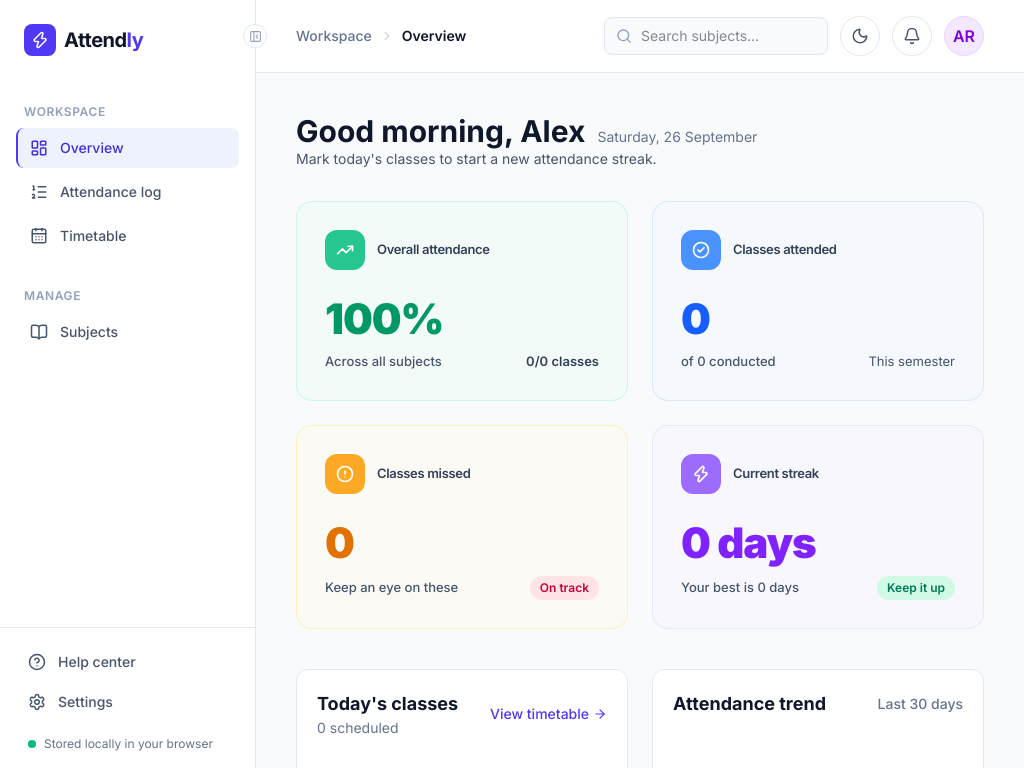
Test: app shell › navigates between all four views from the sidebar
Click the button "Subjects": [128, 332] box [16,312,239,352]
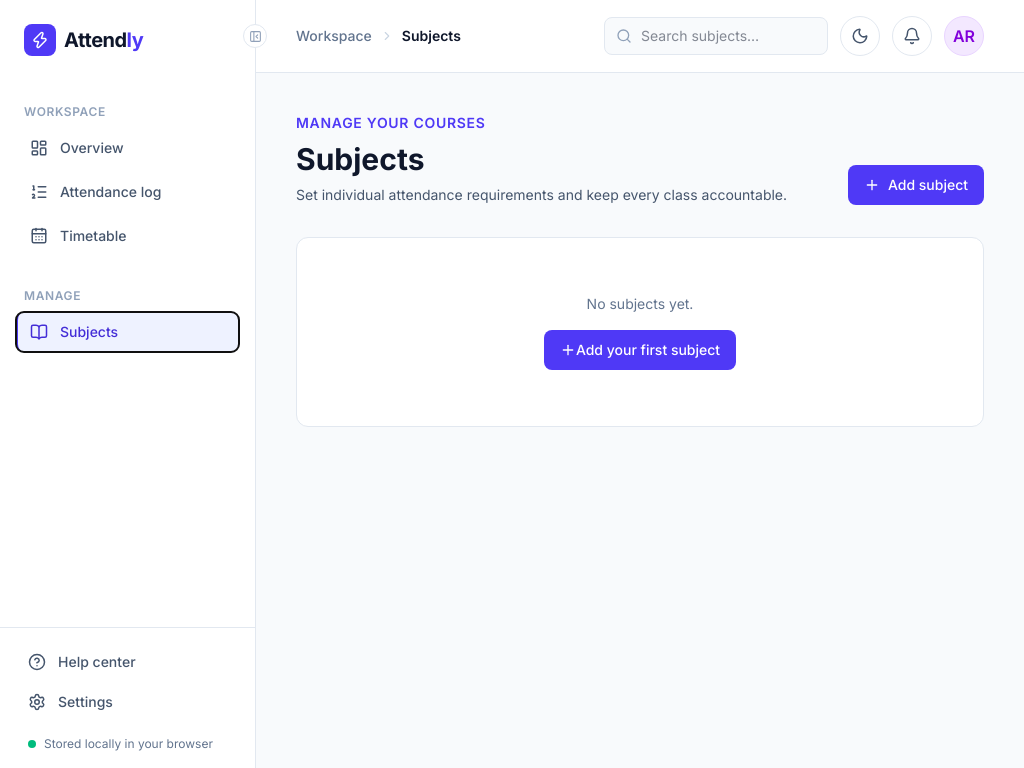
Expected: the heading "Subjects" is shown, [296,141,424,177]
Click the button "Timetable": [128, 236] box [16,216,239,256]
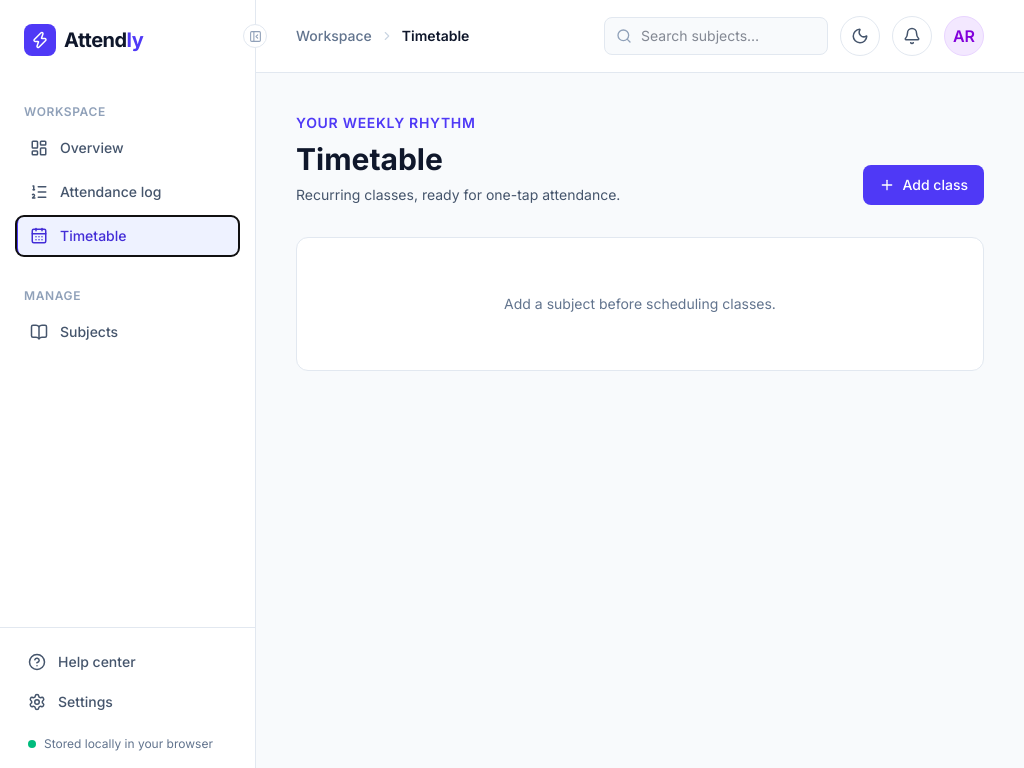
Expected: the heading "Timetable" is shown, [296,141,443,177]
Click the button "Attendance log": [128, 192] box [16,172,239,212]
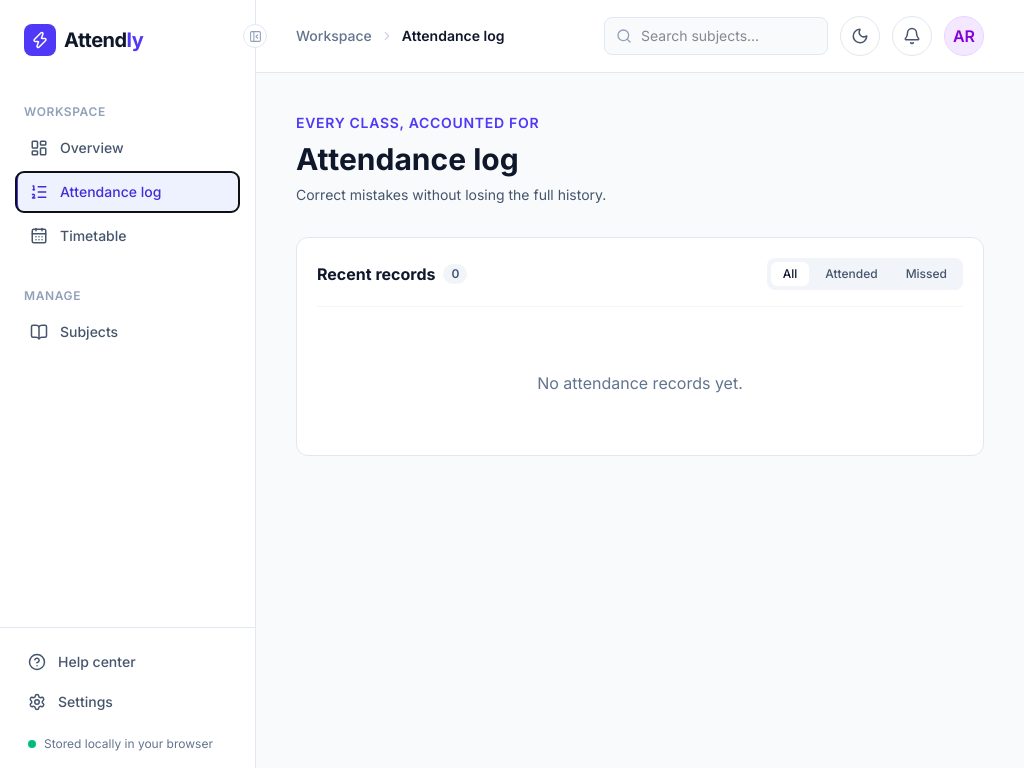
Expected: the heading "Attendance log" is shown, [296,141,519,177]
Click the button "Overview": [128, 148] box [16,128,239,168]
(page scrolled)
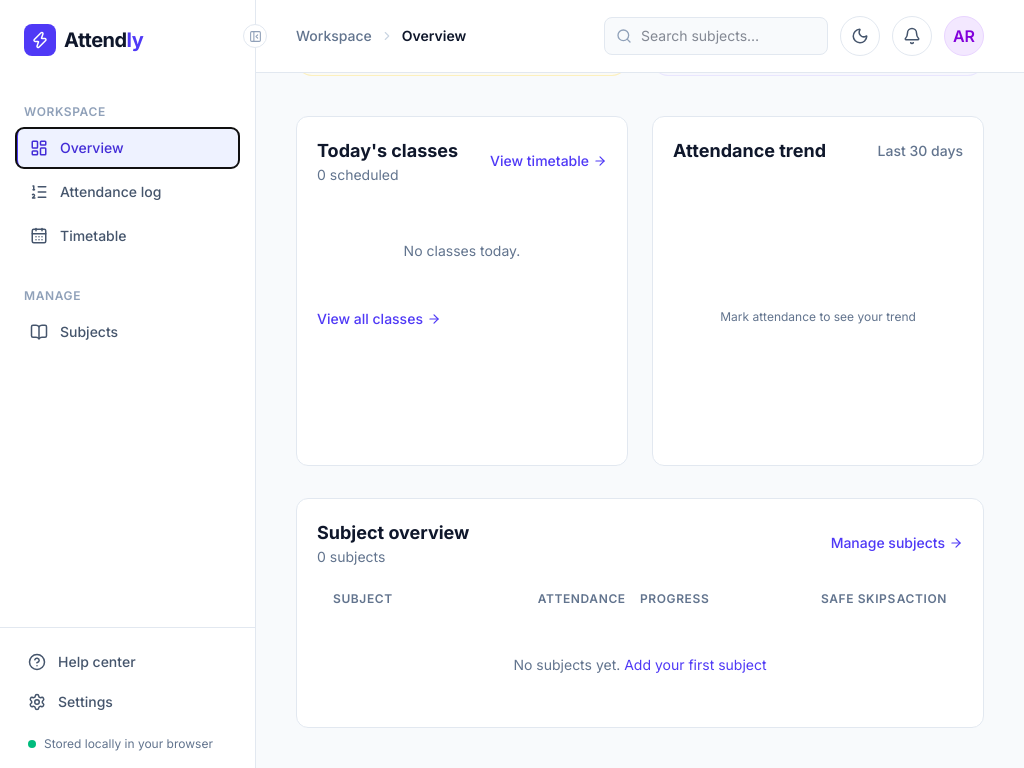
Expected: the heading "Subject overview" is shown, [317,518,469,546]
